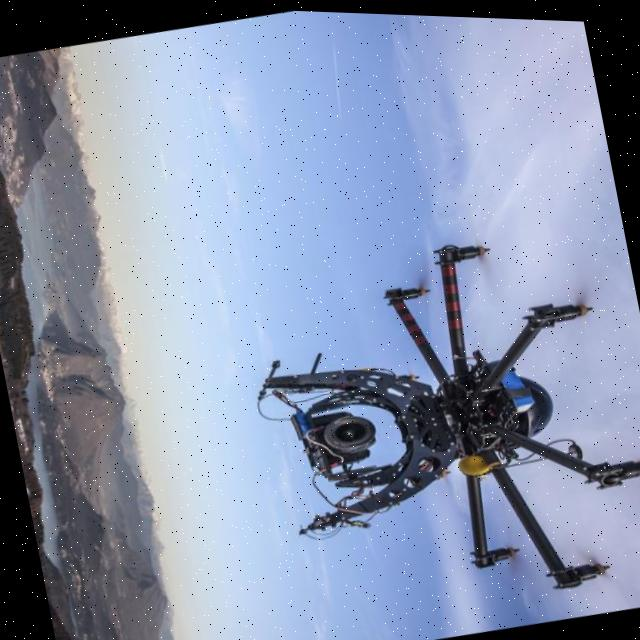drones: (211, 161, 640, 640)
